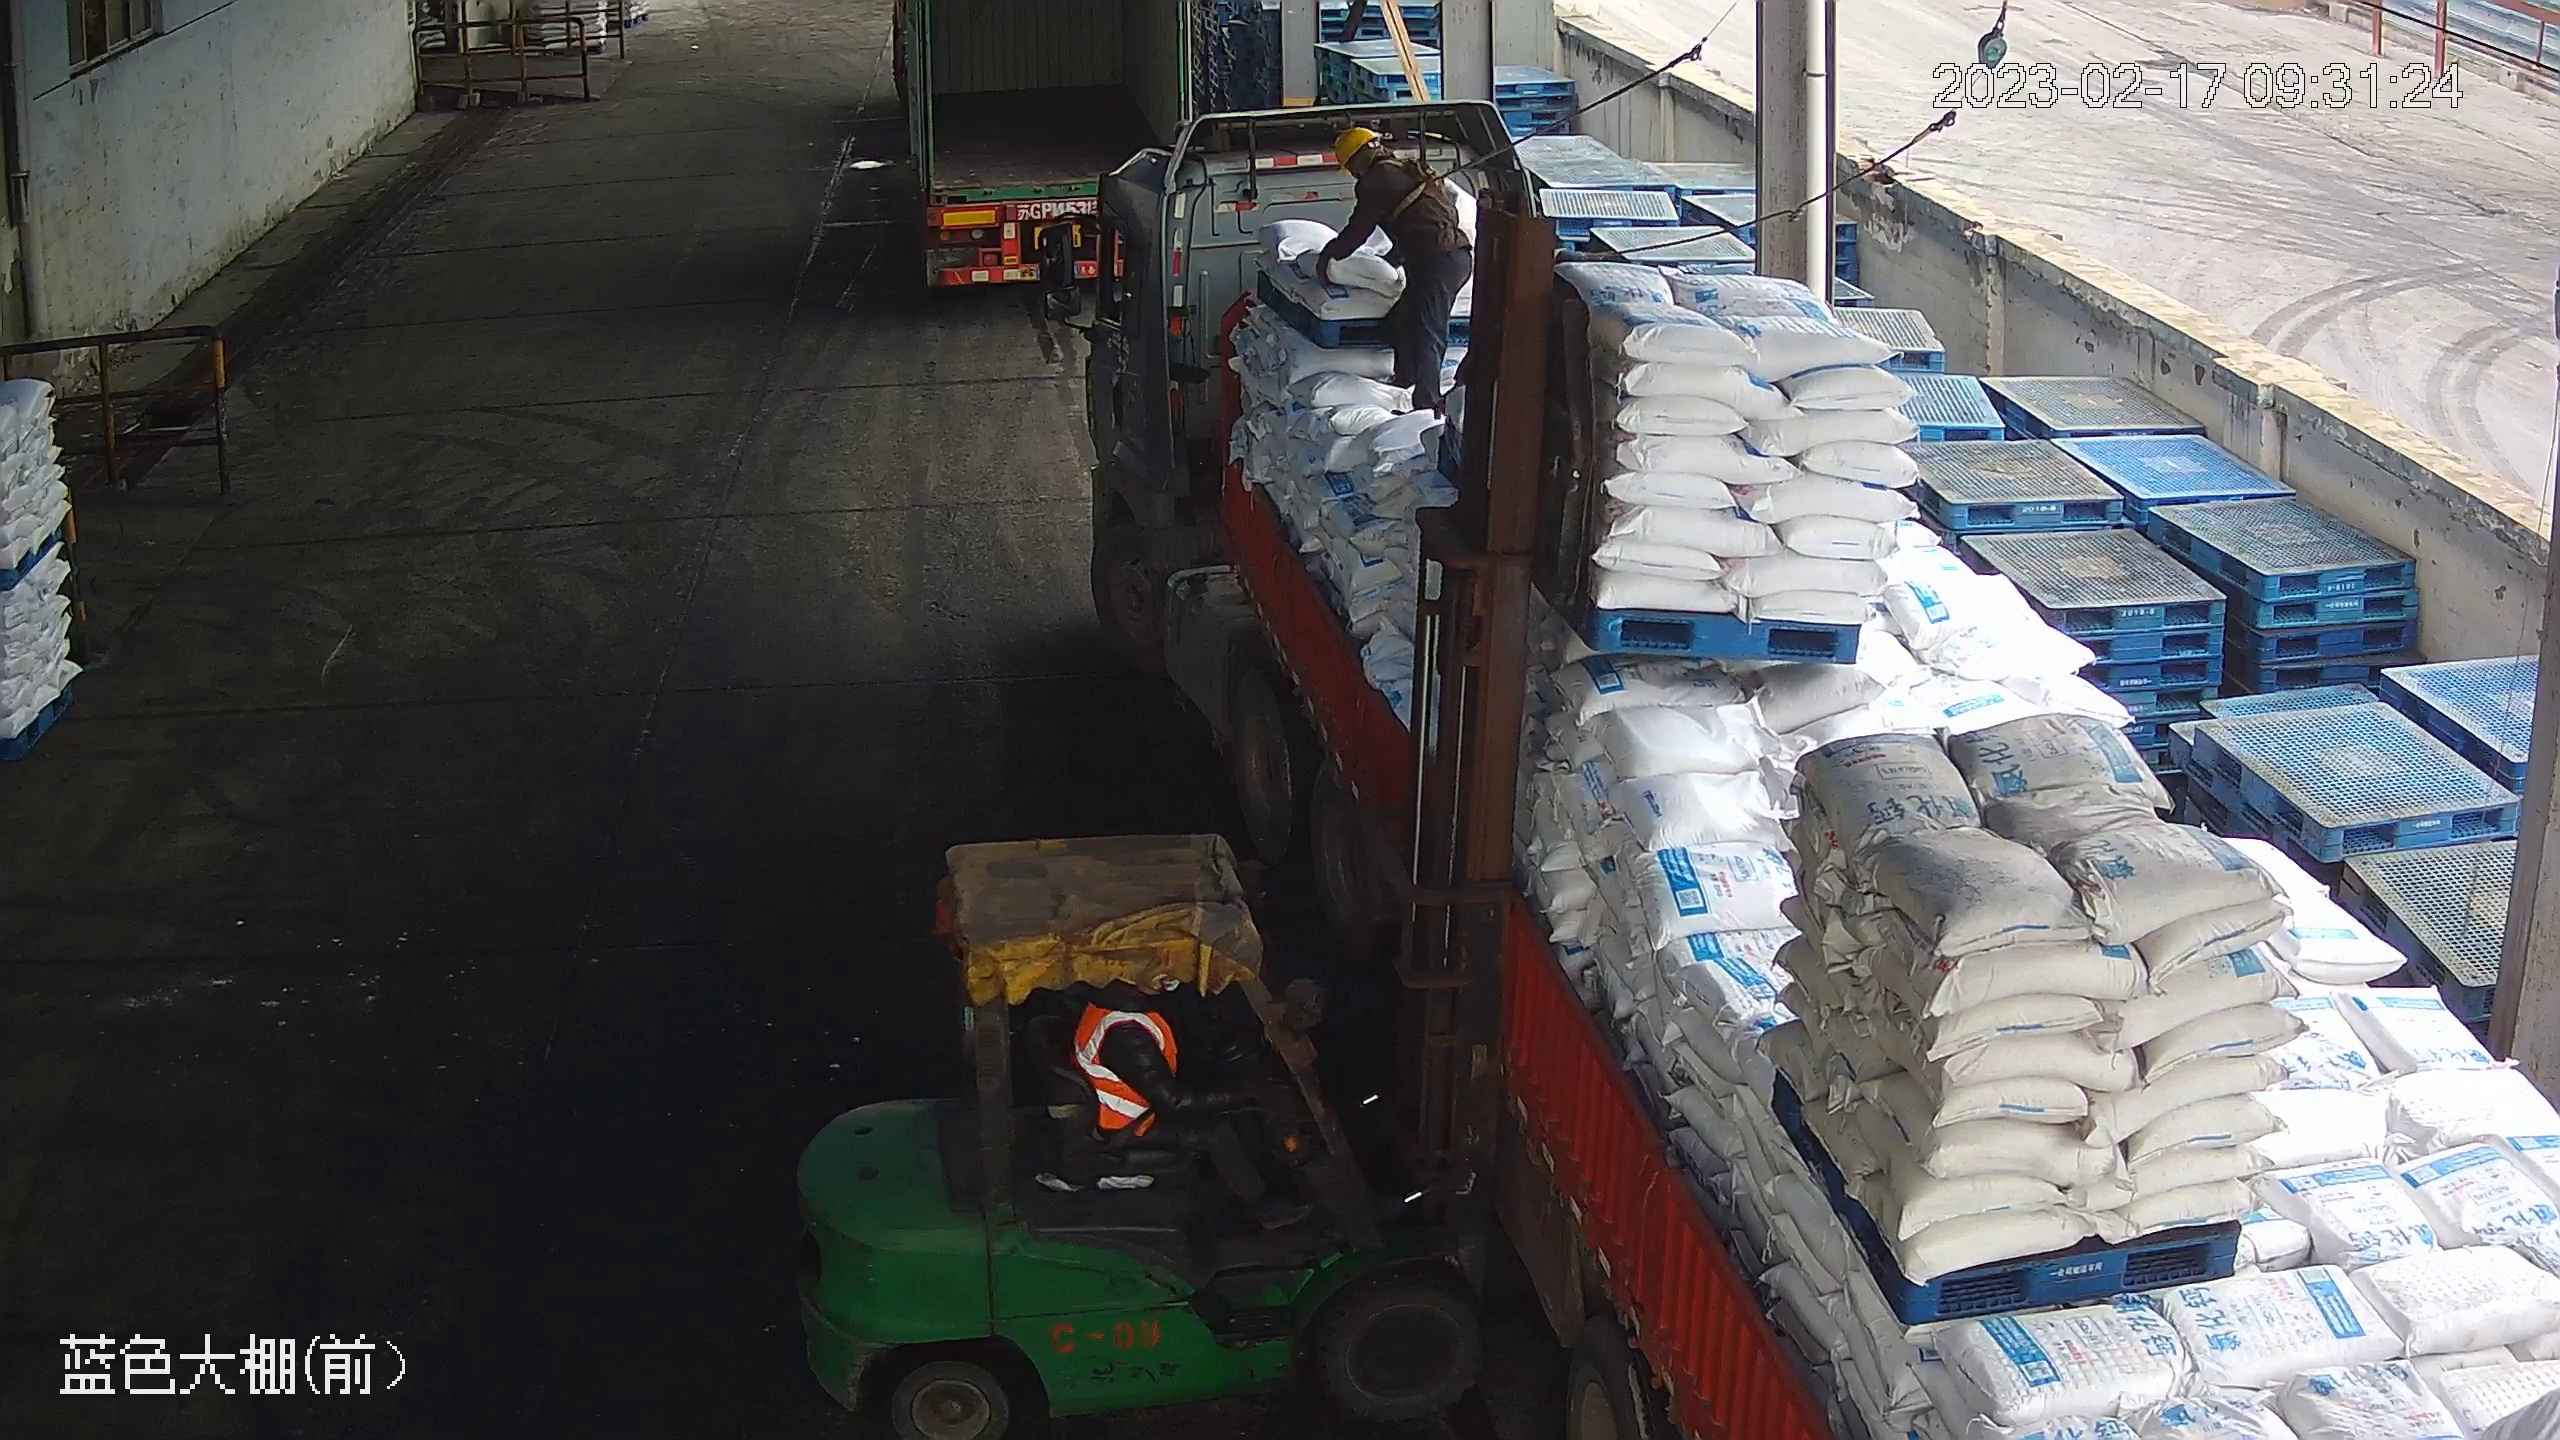belt: (1375, 142, 1467, 231)
head: (1331, 125, 1428, 222)
helmet: (1335, 128, 1385, 171)
people: (1074, 1001, 1323, 1240), (1316, 123, 1473, 421)
truck: (1020, 89, 2560, 1440), (883, 1, 1203, 333)
